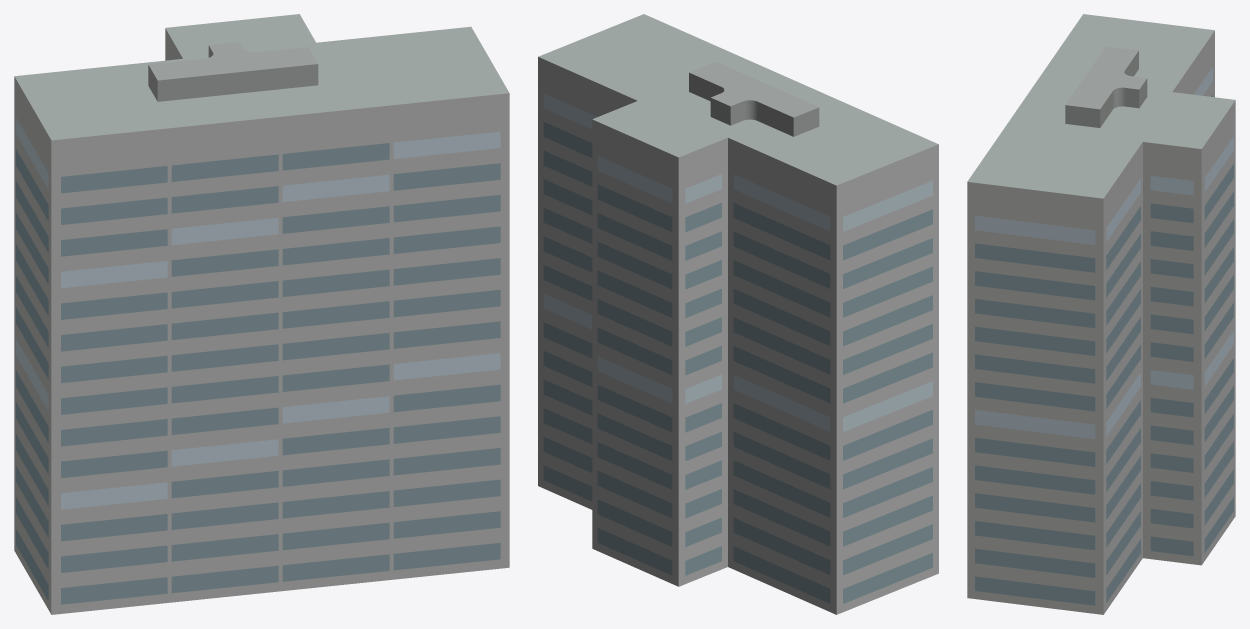
The model's file is fallback-olympic-park-foreon-313.glb.
3 views of the same model, side by side, from view 1: azimuth 30°, elevation 25°; view 2: azimuth 150°, elevation 25°; view 3: azimuth 270°, elevation 25° (orthographic). The views are drawn at different scales.
Parts seen in each view (by area): view 1: fallback-olympic-park-foreon-313; view 2: fallback-olympic-park-foreon-313; view 3: fallback-olympic-park-foreon-313.
Boxes of the visible parts, x1,y1,x2,y2 form: fallback-olympic-park-foreon-313: (14,14,509,614); fallback-olympic-park-foreon-313: (538,14,938,614); fallback-olympic-park-foreon-313: (967,14,1235,614).
Size of the model in its own units: 43.53 by 47.81 by 26.74.
